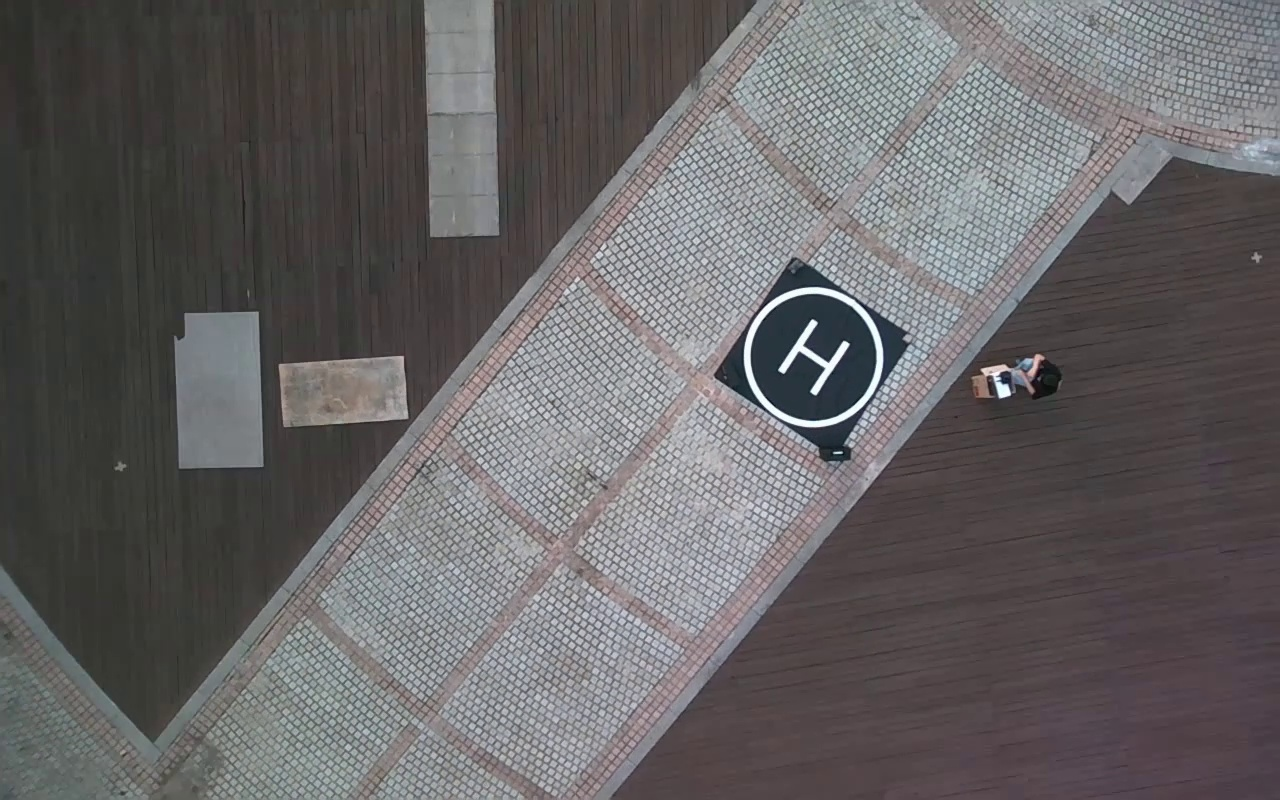H: (778, 317, 852, 396)
heliport: (741, 282, 886, 427)
